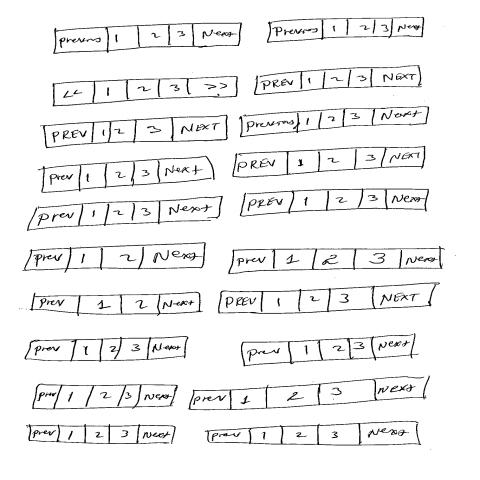Pagination: (189, 376, 430, 411), (28, 197, 225, 233), (218, 283, 438, 315), (41, 156, 216, 194), (44, 115, 229, 150), (232, 147, 427, 179), (53, 23, 243, 55), (240, 107, 430, 138), (228, 248, 442, 275), (241, 334, 416, 367), (53, 77, 239, 108), (206, 421, 422, 447), (22, 243, 207, 272), (240, 189, 430, 217), (254, 65, 422, 96), (267, 18, 425, 44), (32, 292, 203, 316), (25, 337, 189, 362), (32, 384, 178, 410), (28, 426, 176, 446)
